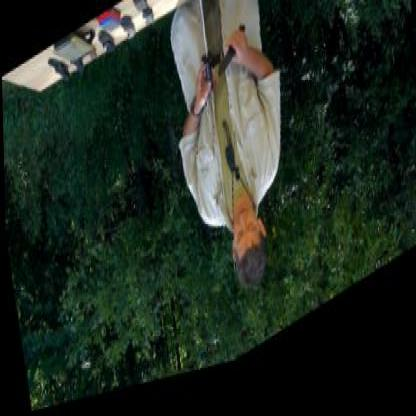knife: (210, 32, 249, 92)
